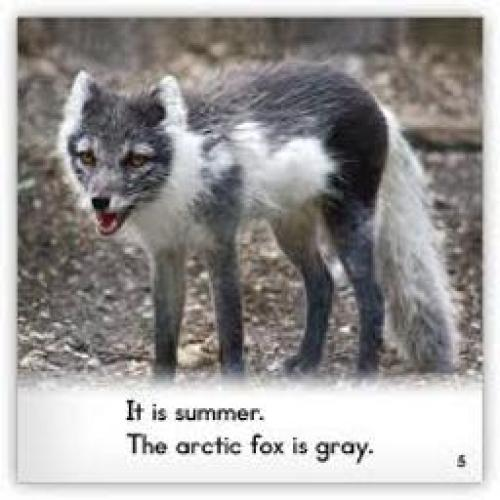arctic_fox-endangered: (49, 66, 464, 370)
